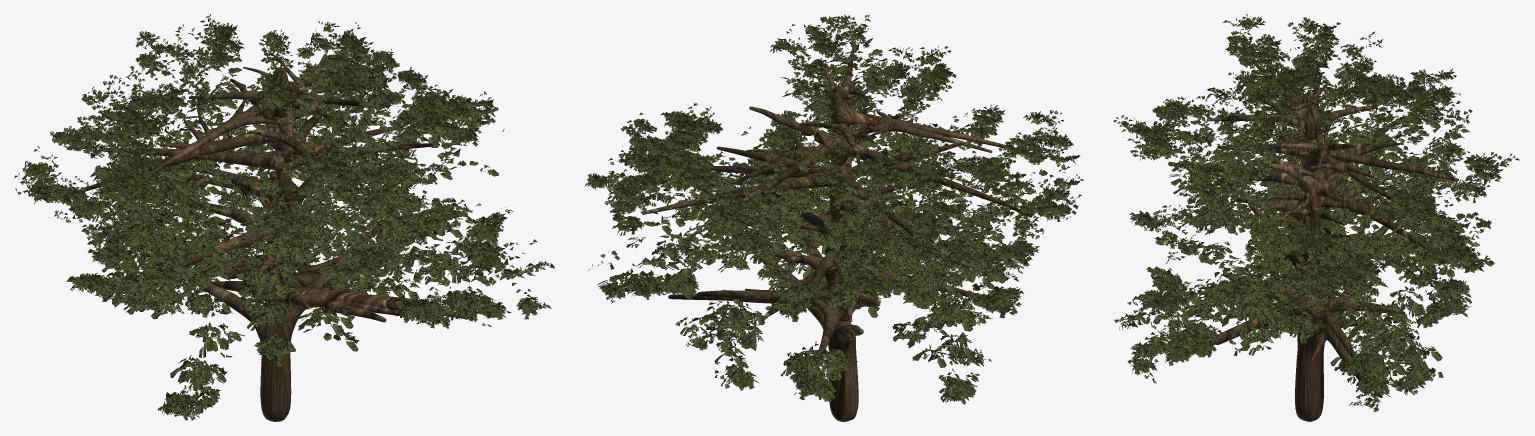
Rendered from tree-jacaranda-lod0.glb.
The picture shows the model from 3 angles, left to right: view 1: azimuth 30°, elevation 25°; view 2: azimuth 150°, elevation 25°; view 3: azimuth 270°, elevation 25°; orthographic projection. The views are drawn at different scales.
Visible parts, largest first — view 1: TREE_Leaves, TREE_Wood; view 2: TREE_Leaves, TREE_Wood; view 3: TREE_Leaves, TREE_Wood.
Part boxes in pixels (x1=…): TREE_Leaves: x1=14, y1=14, x2=554, y2=420; TREE_Wood: x1=71, y1=53, x2=469, y2=421; TREE_Leaves: x1=584, y1=14, x2=1083, y2=404; TREE_Wood: x1=642, y1=47, x2=1031, y2=421; TREE_Leaves: x1=1113, y1=14, x2=1519, y2=411; TREE_Wood: x1=1168, y1=64, x2=1458, y2=421.
Size of the model in its own units: 10.73 by 8.48 by 8.44.
2 materials, 2 textured.
